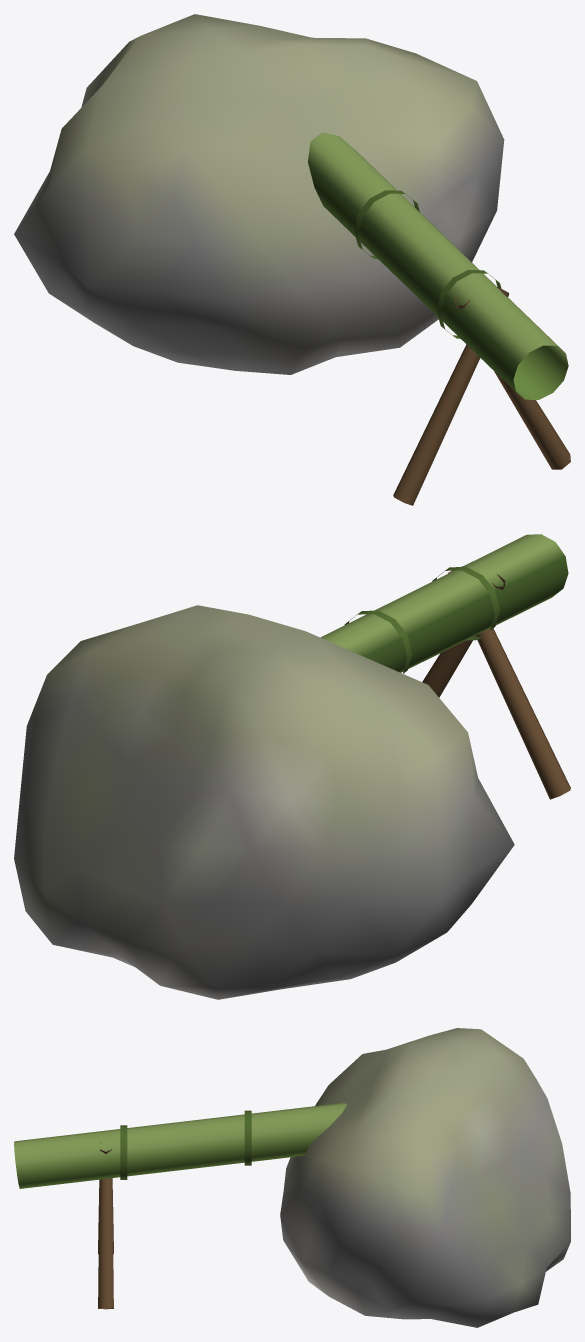
Rendered from Mtn_Spout.fbx.
3 renders of one model, top to bottom at view 1: azimuth 30°, elevation 25°; view 2: azimuth 150°, elevation 25°; view 3: azimuth 270°, elevation 25°, orthographic. The views are drawn at different scales.
Visible parts, largest first — view 1: Mtn_Spout; view 2: Mtn_Spout; view 3: Mtn_Spout.
Part boxes in pixels (x1,y1,x2,y2): Mtn_Spout: [14, 14, 570, 505]; Mtn_Spout: [14, 534, 570, 999]; Mtn_Spout: [14, 1028, 570, 1327].
Size of the model in its own units: 6.47 by 4.34 by 9.71.
